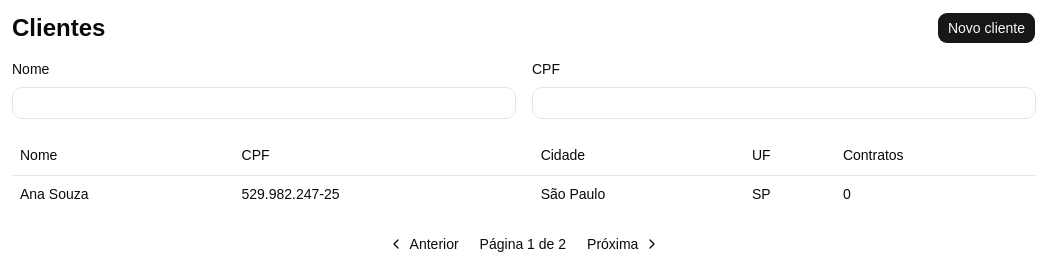
telas de clientes › lista › mostra os itens e pagina
Expected: the link "Ana Souza" is shown, x1=20 y1=186 x2=88 y2=202
Click the link with aria-label "Próxima página": (624, 244) x1=587 y1=236 x2=660 y2=252
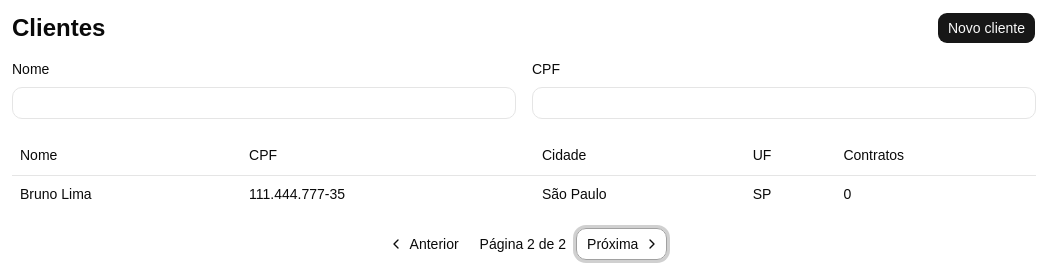
Expected: the link "Bruno Lima" is shown, x1=20 y1=186 x2=92 y2=202
Expected: the link "Ana Souza" is gone
